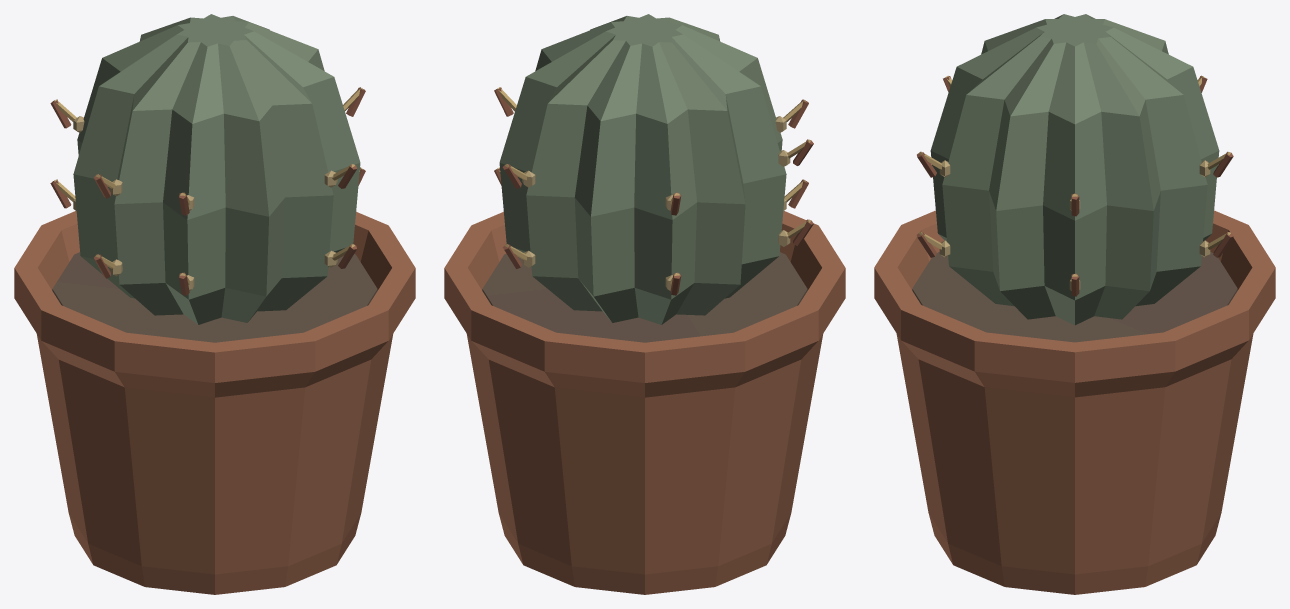
The model's file is new-latispinus.glb.
3 views of the same model, side by side, from view 1: azimuth 30°, elevation 25°; view 2: azimuth 150°, elevation 25°; view 3: azimuth 270°, elevation 25° (orthographic).
Visible parts, largest first — view 1: new-latispinus/review-terra-vessel, new-latispinus/ribbed-stem-001, new-latispinus/review-rooted-soil; view 2: new-latispinus/review-terra-vessel, new-latispinus/ribbed-stem-001, new-latispinus/review-rooted-soil; view 3: new-latispinus/review-terra-vessel, new-latispinus/ribbed-stem-001, new-latispinus/review-rooted-soil.
Boxes of the visible parts, x1,y1,x2,y2 form: new-latispinus/review-terra-vessel: (14,211,415,594); new-latispinus/ribbed-stem-001: (73,14,360,324); new-latispinus/review-rooted-soil: (52,252,377,342); new-latispinus/review-terra-vessel: (444,211,845,594); new-latispinus/ribbed-stem-001: (499,14,786,324); new-latispinus/review-rooted-soil: (482,252,807,342); new-latispinus/review-terra-vessel: (874,210,1275,594); new-latispinus/ribbed-stem-001: (930,14,1219,325); new-latispinus/review-rooted-soil: (912,252,1237,342).
Bounding box in the file's own units: 0.19 × 0.264 × 0.19.
6 materials, 6 textured.
